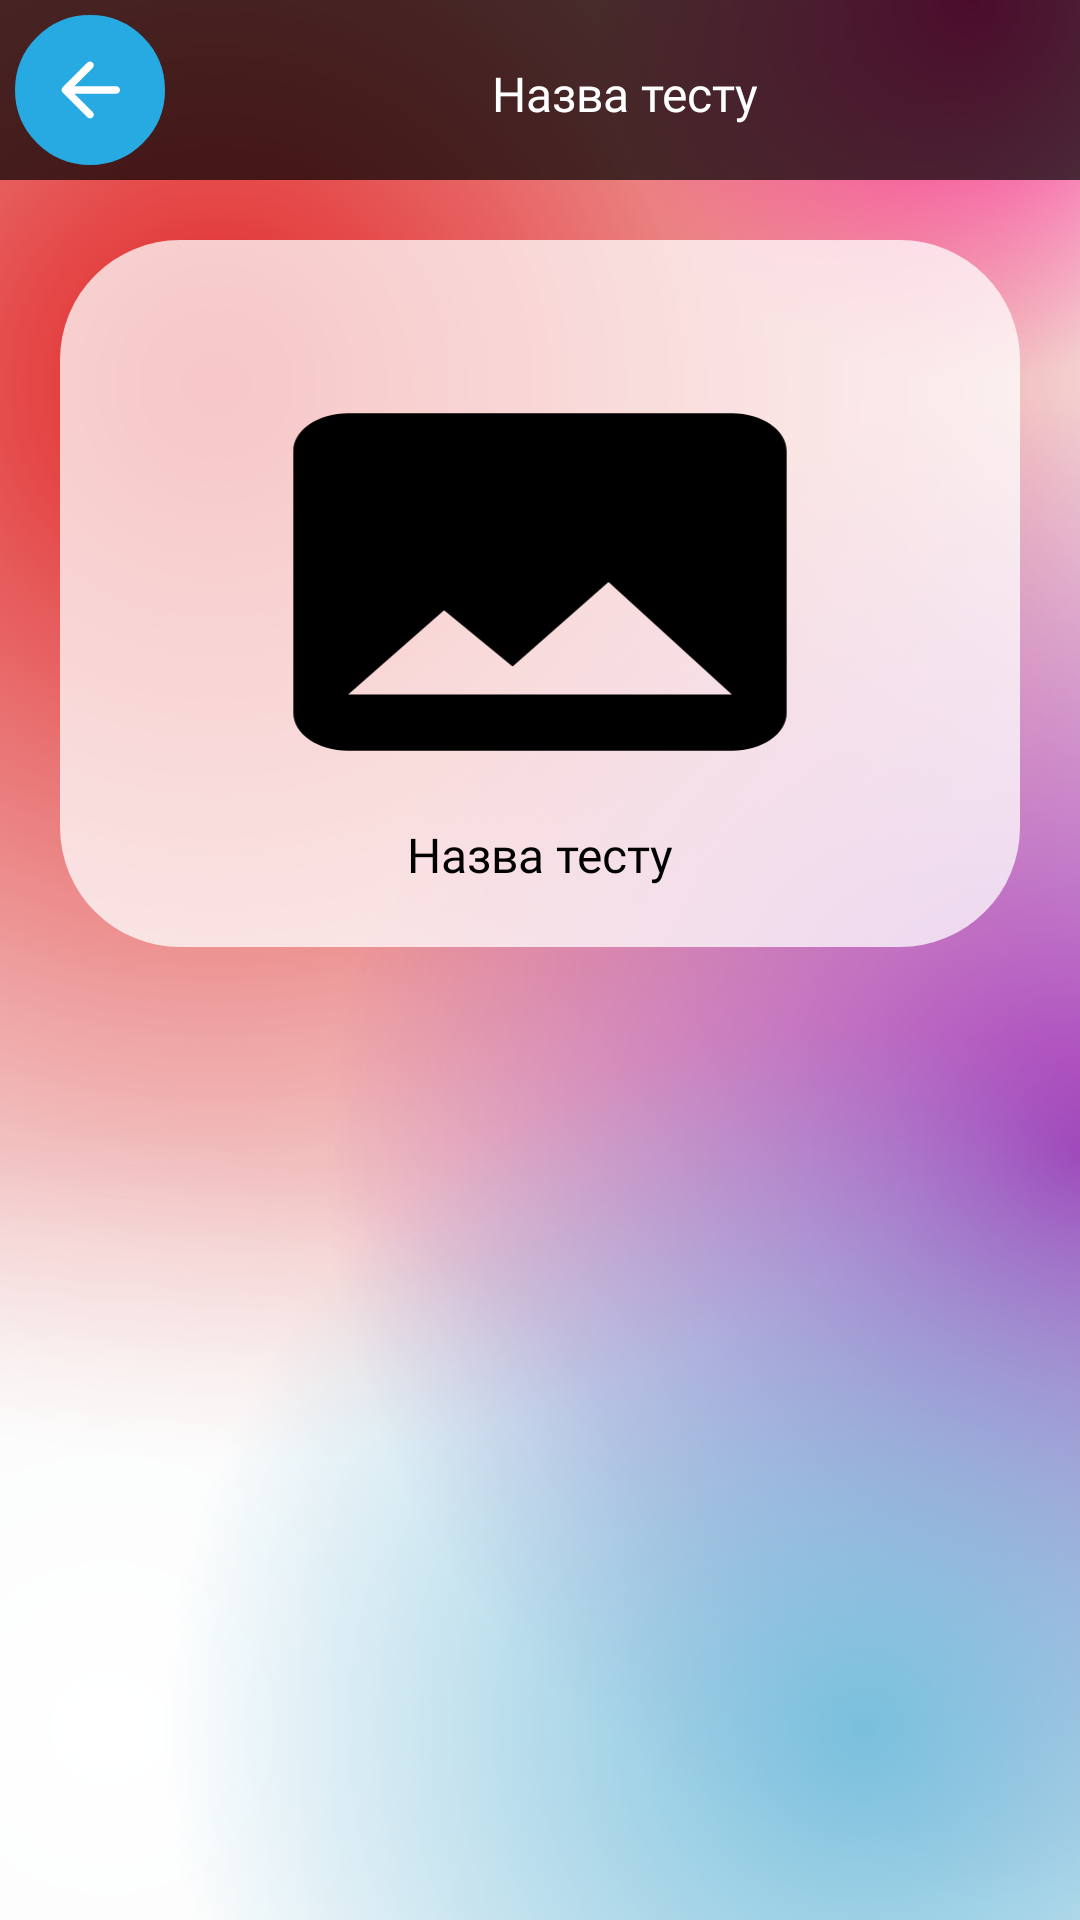

Point at icon controls on the screen. Image size 1080*1920, points as [x,y].
arrow back: [90,90]
